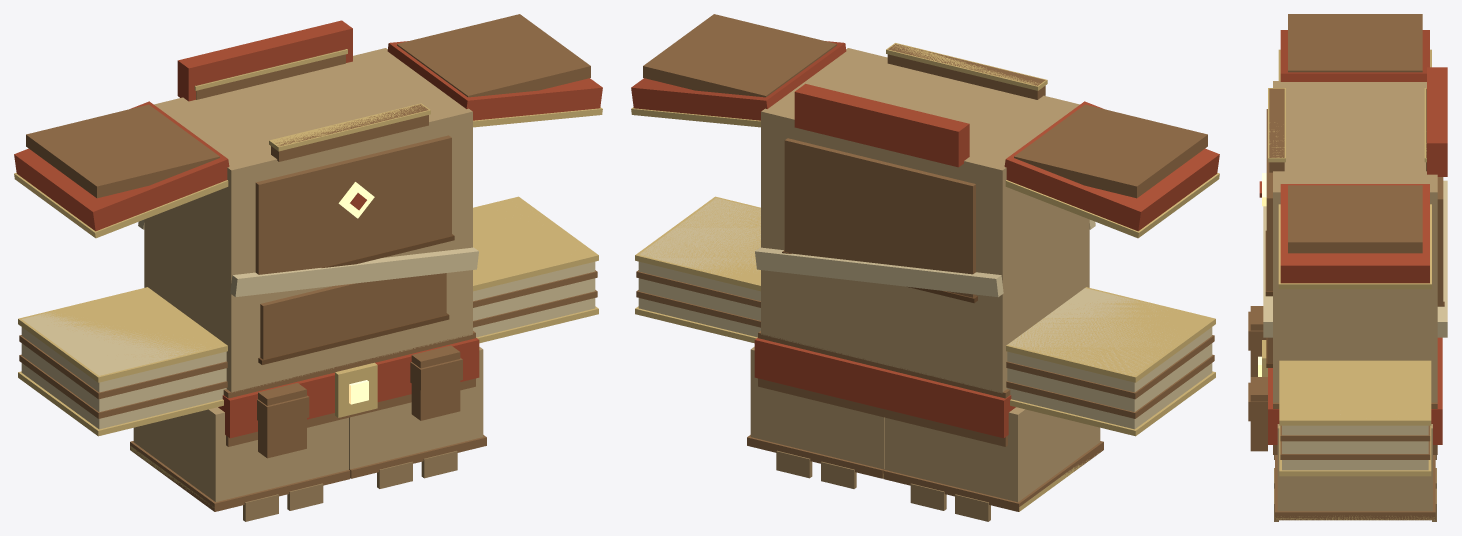
3 views of the same model, side by side, from view 1: azimuth 30°, elevation 25°; view 2: azimuth 150°, elevation 25°; view 3: azimuth 270°, elevation 25° (orthographic). The views are drawn at different scales.
Visible parts, largest first — view 1: armor-nomad; view 2: armor-nomad; view 3: armor-nomad.
Part boxes in pixels (<box>): armor-nomad: <box>14,14,602,521</box>; armor-nomad: <box>631,14,1219,521</box>; armor-nomad: <box>1248,14,1447,521</box>.
Size of the model in its own units: 1.16 by 0.8457 by 0.4157.
